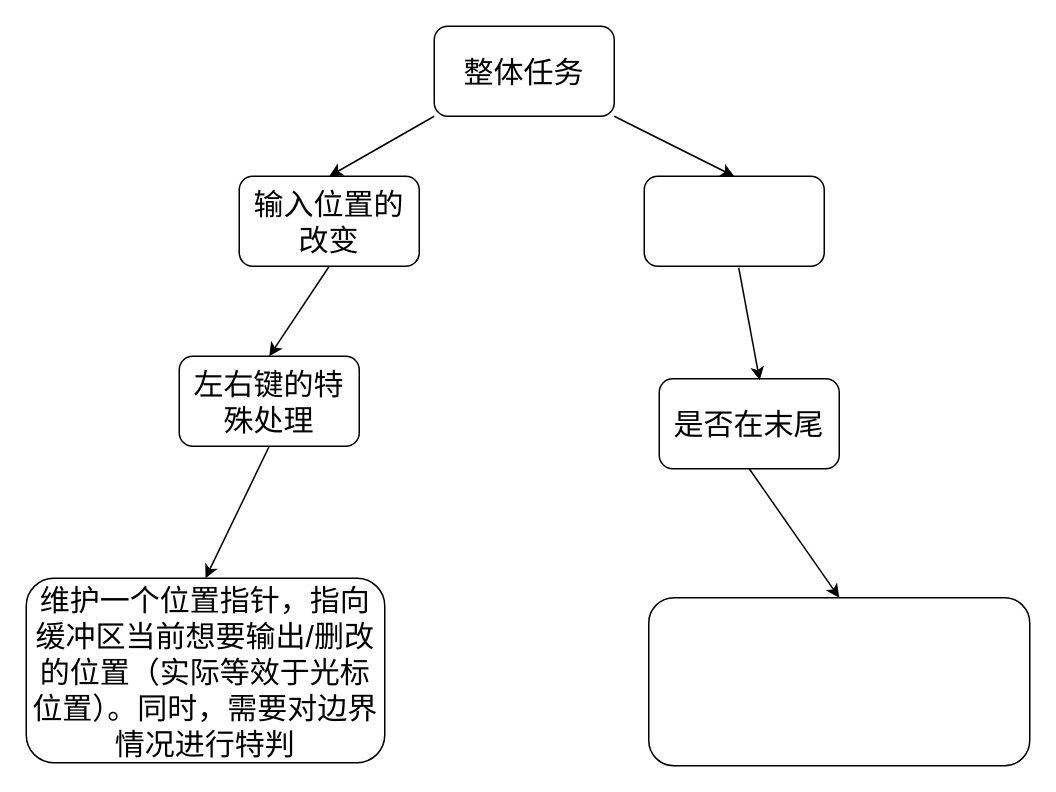
Image size: 1056x792. Some labels were removed from this diagram. The shapes that lost their labels are listed below. From the top down, each one's centre as x and y in pixels, then its label:
(x=733, y=220): 在当前位置的删改
(x=838, y=681): 不在末尾的话，需要保存当前光标之后的缓冲区内容，以便在增/删完毕之后进行拼接
